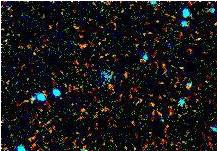star: (15, 90, 45, 120)
